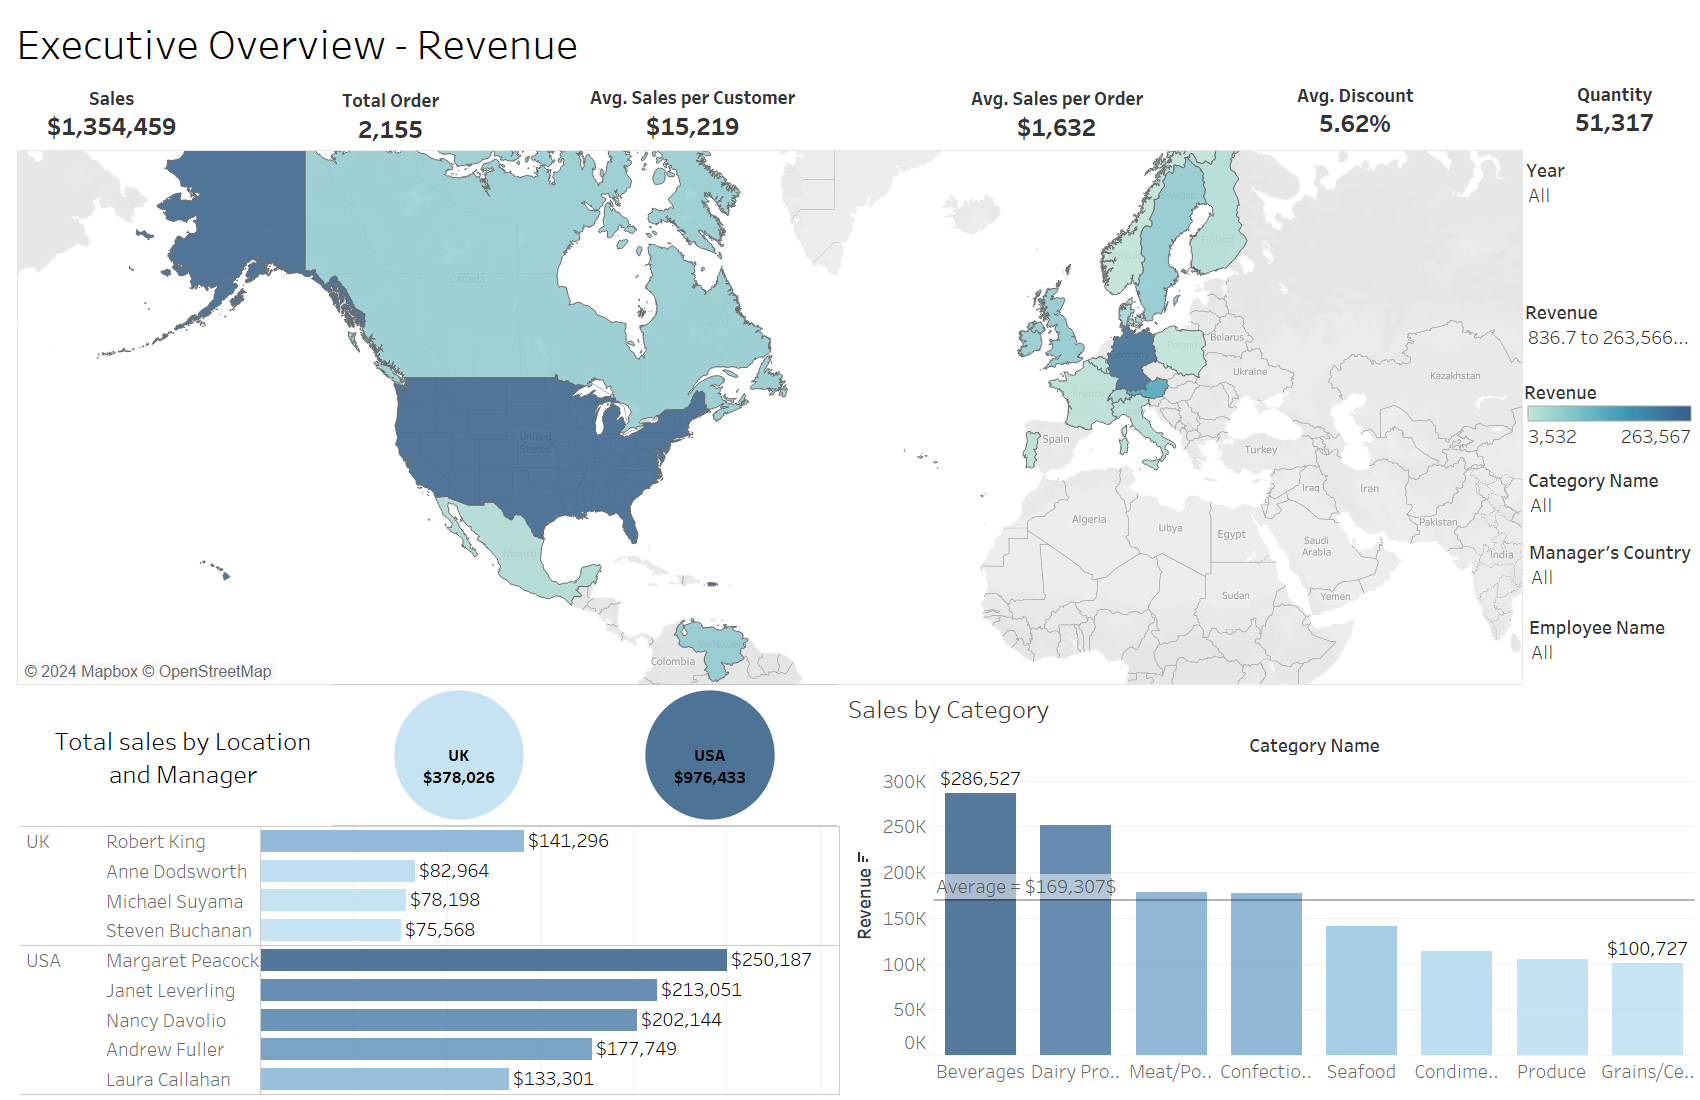

Layout of this report page (visuals, bound fields, positions):
{"tool":"tableau","page":{"name":"Dashboard 1","canvas":[1700,1100],"ordinal":0},"visuals":[{"type":"text","box":[11.9,11,1016.6,64.6]},{"type":"worksheet","title":"Avg. Discount","mark":"Automatic","box":[1171.9,77,367.2,69.3]},{"type":"worksheet","title":"Quantity","mark":"Automatic","box":[1533.4,77,164.3,67.1]},{"type":"worksheet","title":"Avg. Sales per Customer","mark":"Automatic","box":[544,78.1,299.2,71.5]},{"type":"worksheet","title":"Revenue","mark":"Automatic","box":[10.6,79,201.9,71]},{"type":"worksheet","title":"Avg. Sales per Order","mark":"Automatic","box":[935,79.2,244.8,71.5]},{"type":"worksheet","title":"Total Order","mark":"Automatic","box":[234.6,83.6,311.7,66]},{"type":"worksheet","title":"Sales by Country","mark":"Multipolygon","box":[17,150,1505.6,535]},{"type":"filter","title":"Sales by Category","param":"[federated.15g4hod0cl8zf415hup731wyvwpm].[yr:OrderDate:ok]","box":[1525.8,156,167.9,146]},{"type":"filter","title":"Sales by Country","param":"[federated.15g4hod0cl8zf415hup731wyvwpm].[sum:Calculation_478788979617505281:qk]","box":[1524.7,298,170,73]},{"type":"legend","title":"Sales by Country","param":"[federated.15g4hod0cl8zf415hup731wyvwpm].[sum:Calculation_478788979617505281:qk]","box":[1523.6,375,172.1,90]},{"type":"filter","title":"Avg. Discount","param":"[federated.15g4hod0cl8zf415hup731wyvwpm].[none:categoryName:nk]","box":[1527.9,466,170,69]},{"type":"filter","title":"Sales by Region","param":"[federated.15g4hod0cl8zf415hup731wyvwpm].[none:country (dim_employee):nk]","box":[1528.9,538,170,63]},{"type":"filter","title":"Sales by Region","param":"[federated.15g4hod0cl8zf415hup731wyvwpm].[none:employeeName:nk]","box":[1528.9,613,170,70]},{"type":"worksheet","title":"Sales by Region","mark":"Circle","cols":["country (dim_employee)"],"box":[333,684,505,142]},{"type":"worksheet","title":"Sales by Category","mark":"Bar","rows":["Calculation_478788979617505281"],"cols":["categoryName"],"box":[843.6,686,851.1,409]},{"type":"text","box":[17,694,331.5,128]},{"type":"worksheet","title":"Total Sales by Manager & Country","mark":"Automatic","rows":["country (dim_employee)","employeeName"],"cols":["Calculation_478788979617505281"],"box":[20.2,826,820.3,269]}]}

Visuals, with their boxes in screenshot pixels (x1, y1, x2, y2), scaled from the page's 1700x1100 canvas onto the 1700x1100 screenshot:
text: bbox=(12, 11, 1028, 76)
"Avg. Discount" worksheet: bbox=(1172, 77, 1539, 146)
"Quantity" worksheet: bbox=(1533, 77, 1698, 144)
"Avg. Sales per Customer" worksheet: bbox=(544, 78, 843, 150)
"Revenue" worksheet: bbox=(11, 79, 212, 150)
"Avg. Sales per Order" worksheet: bbox=(935, 79, 1180, 151)
"Total Order" worksheet: bbox=(235, 84, 546, 150)
"Sales by Country" worksheet (Multipolygon marks): bbox=(17, 150, 1523, 685)
"Sales by Category" filter: bbox=(1526, 156, 1694, 302)
"Sales by Country" filter: bbox=(1525, 298, 1695, 371)
"Sales by Country" legend: bbox=(1524, 375, 1696, 465)
"Avg. Discount" filter: bbox=(1528, 466, 1698, 535)
"Sales by Region" filter: bbox=(1529, 538, 1699, 601)
"Sales by Region" filter: bbox=(1529, 613, 1699, 683)
"Sales by Region" worksheet (Circle marks): bbox=(333, 684, 838, 826)
"Sales by Category" worksheet (Bar marks): bbox=(844, 686, 1695, 1095)
text: bbox=(17, 694, 348, 822)
"Total Sales by Manager & Country" worksheet: bbox=(20, 826, 840, 1095)
